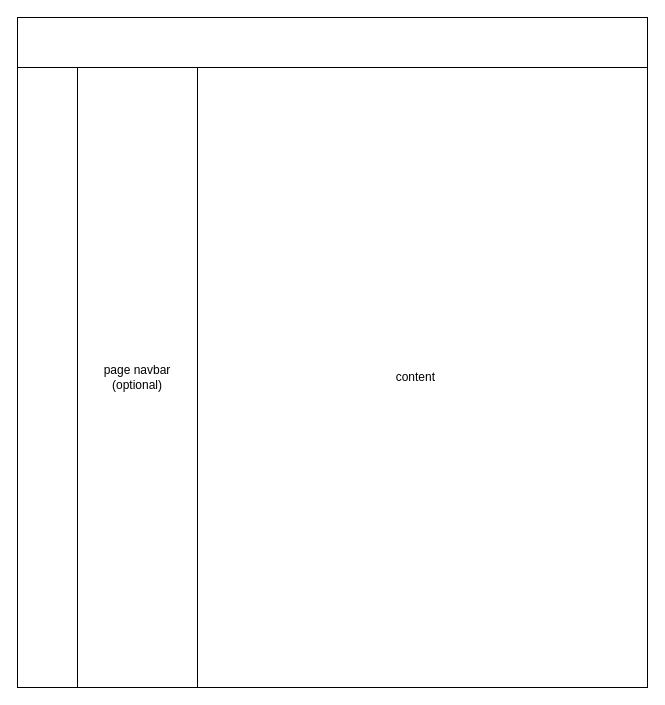
Image size: 665x705. Some labels were removed from this diagram. Each missing label, with the centre of its shape:
"side navbar" goes at pixel 47 377.
"top navbar" goes at pixel 332 42.
